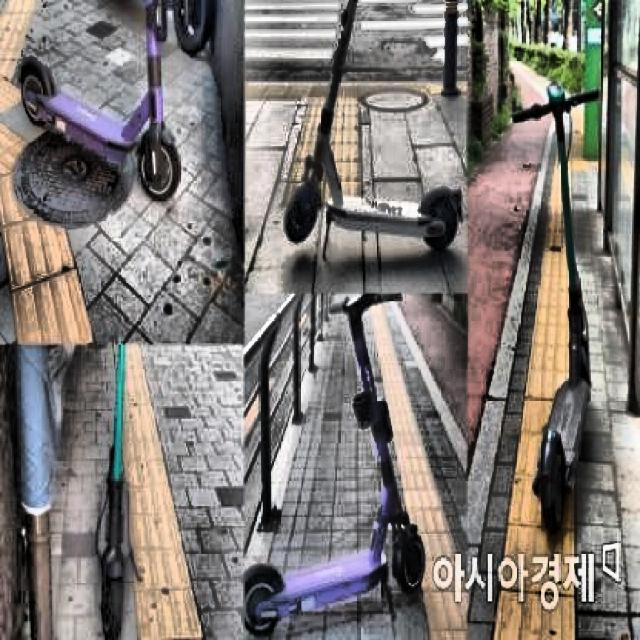bike: (4, 0, 222, 226), (281, 0, 469, 262), (93, 0, 222, 56), (150, 0, 218, 56)
